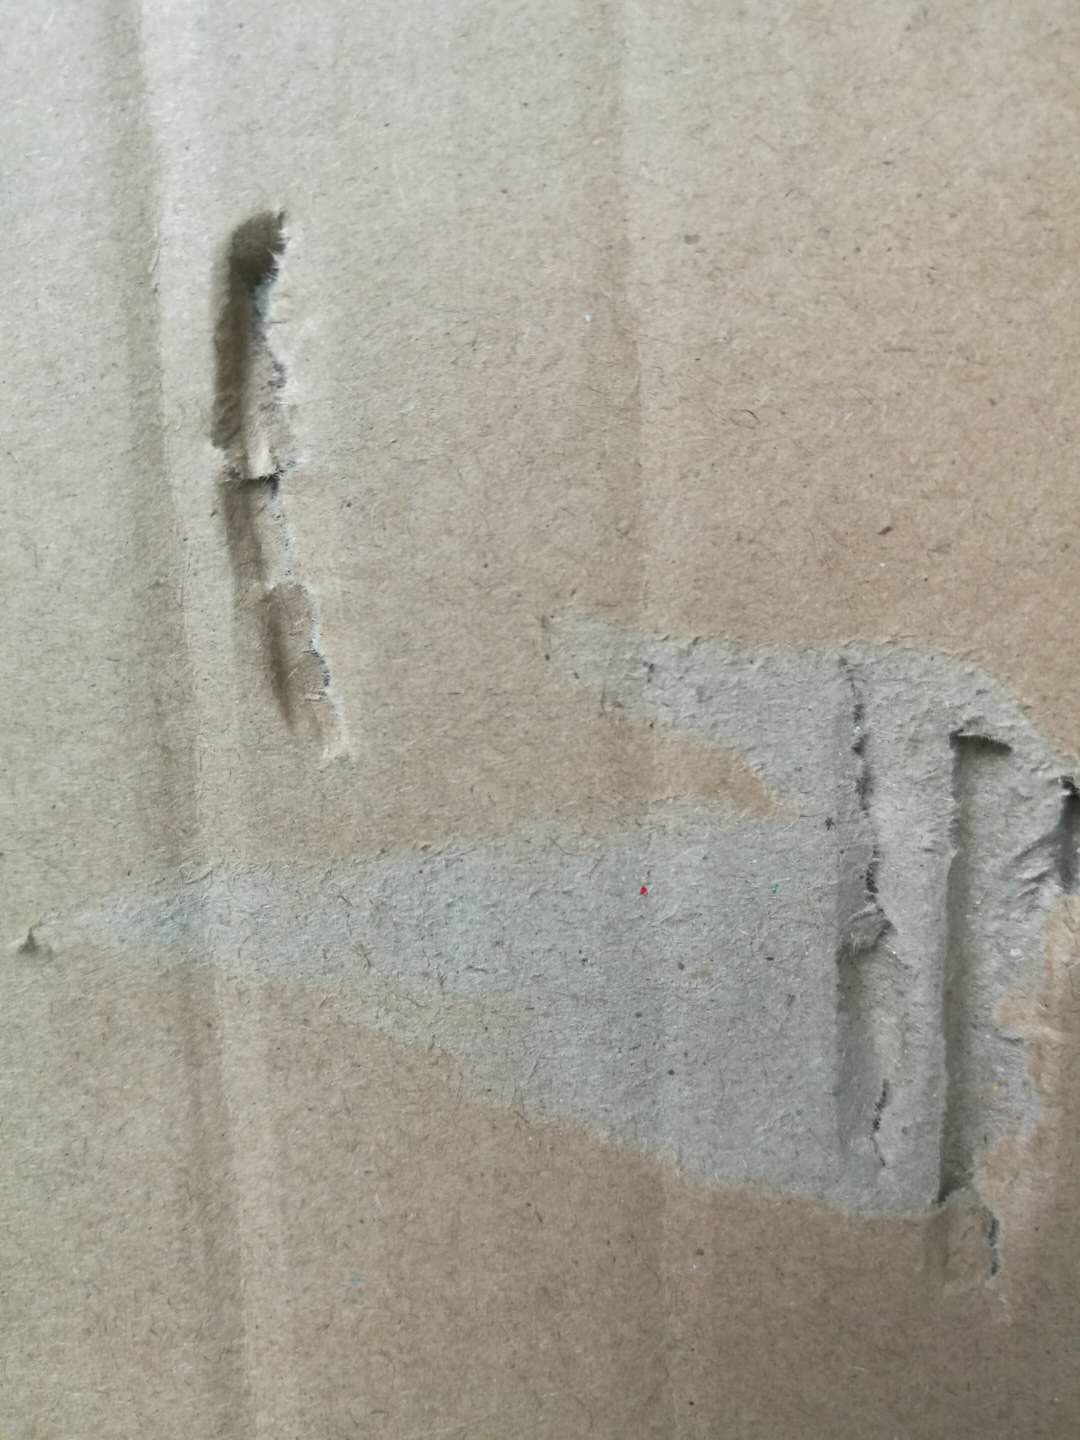defect: (9, 582, 1080, 1311), (69, 1, 305, 1439), (554, 1, 743, 1440), (171, 167, 395, 782)
